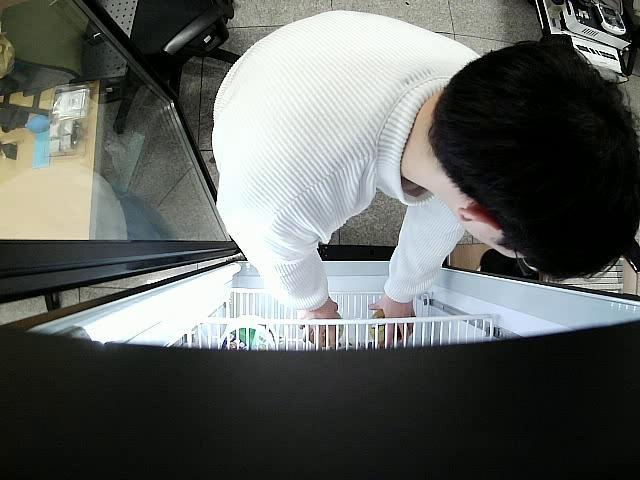04_chapagetti_S: (366, 310, 412, 340), (306, 313, 344, 346)
